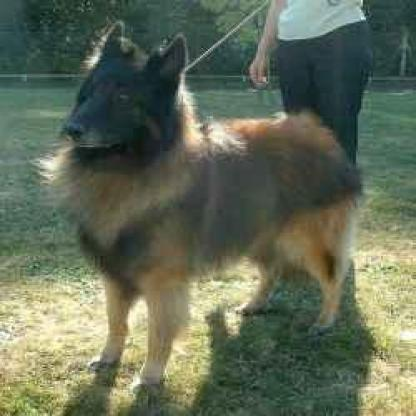German_shepherd: (33, 19, 358, 393)
